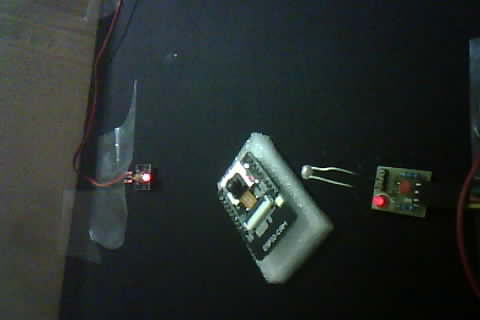esp32: (213, 131, 310, 270)
